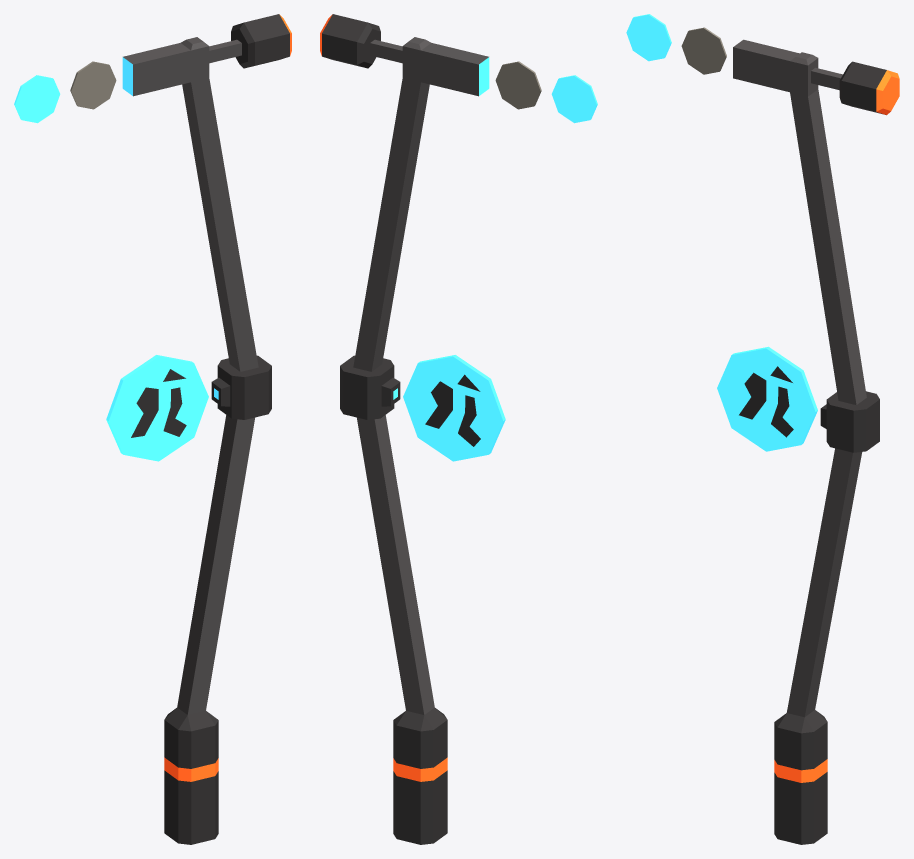
File: scifi_scifi-traffic-lights-go.fbx
The picture shows the model from 3 angles, left to right: view 1: azimuth 30°, elevation 25°; view 2: azimuth 150°, elevation 25°; view 3: azimuth 330°, elevation 25°; orthographic projection.
Parts seen in each view (by area): view 1: scifi_scifi_traffic_lights_go; view 2: scifi_scifi_traffic_lights_go; view 3: scifi_scifi_traffic_lights_go.
Part boxes in pixels (bbox=[...]): scifi_scifi_traffic_lights_go: bbox=[14, 14, 291, 844]; scifi_scifi_traffic_lights_go: bbox=[320, 14, 597, 844]; scifi_scifi_traffic_lights_go: bbox=[626, 14, 899, 844].
Bounding box in the file's own units: 70.53 × 200 × 10.63.
